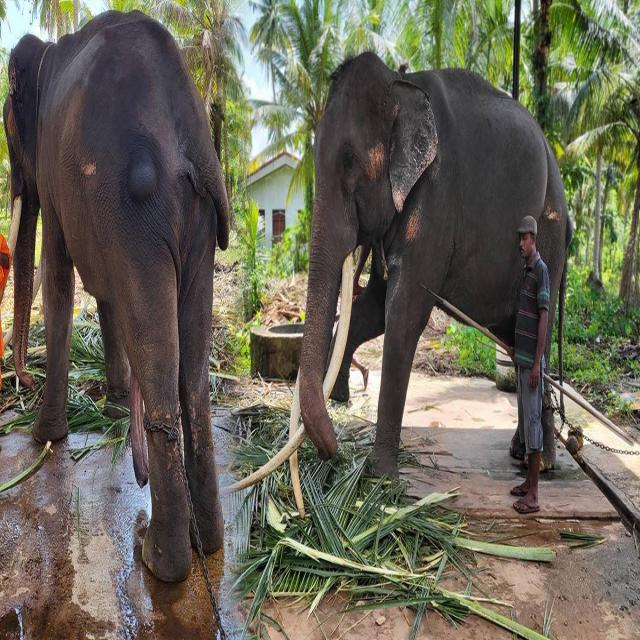Elephant: (295, 31, 585, 544), (2, 10, 240, 610)
